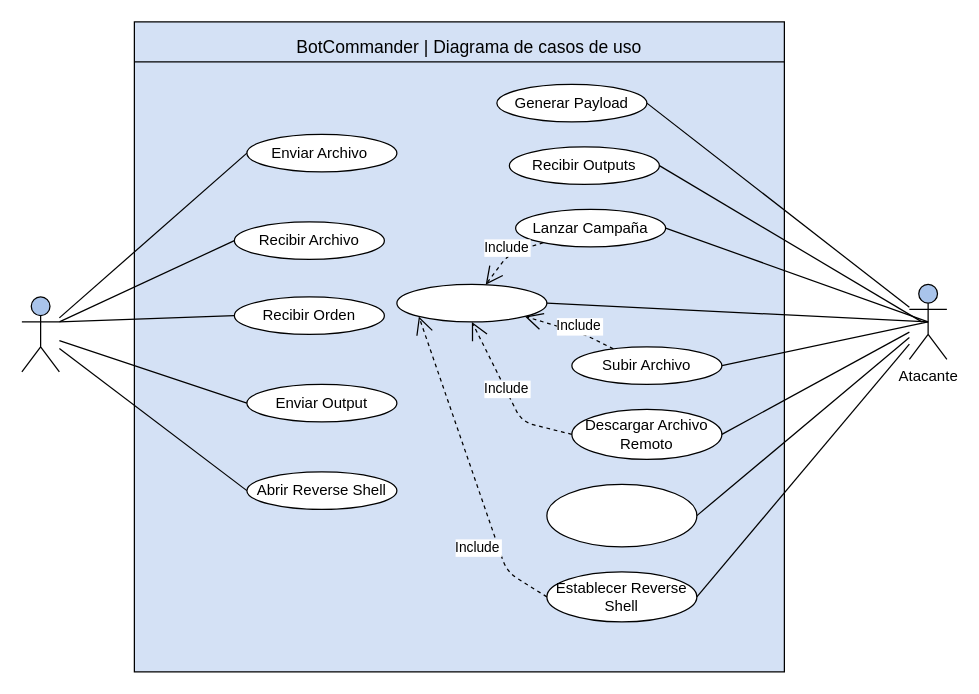
This 979x694 diagram has some shape labels left out. The centre of each missing label's shape, as x and y in pixels:
"Bot" belongs at point (40, 334).
"Enviar Orden" belongs at point (471, 302).
"Monitorizar Servidor C&C" belongs at point (621, 515).
